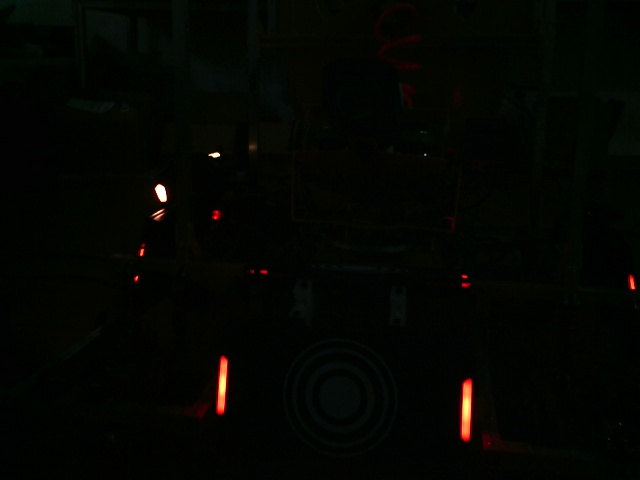lamp: (458, 377, 473, 442), (217, 353, 227, 416)
